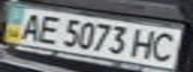0: (75, 19, 96, 52)
3: (109, 24, 133, 56)
5: (57, 17, 81, 48)
7: (90, 21, 112, 53)
A: (12, 10, 45, 42)
C: (148, 29, 184, 63)
E: (33, 14, 63, 45)
H: (127, 26, 163, 61)
